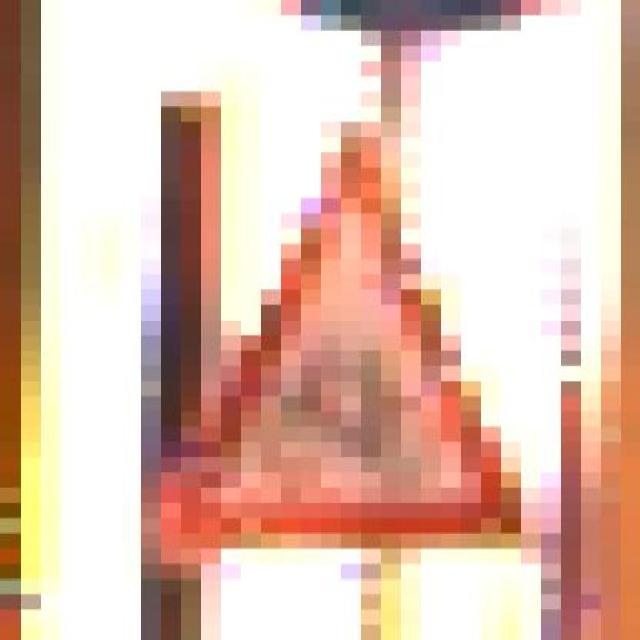CYCLE ROUTE AHEAD WARNING: (139, 78, 519, 597)
